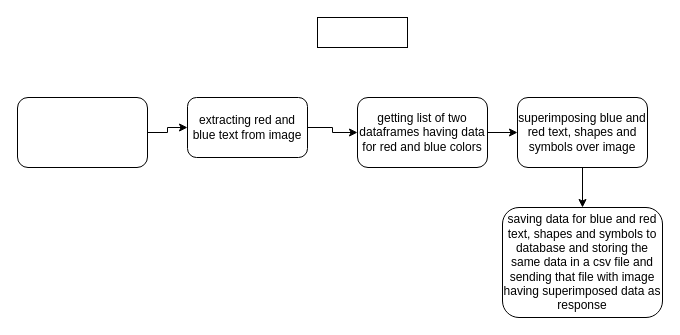
This 680x335 diagram has some shape labels left out. The centre of each missing label's shape, as x and y in pixels:
"accessing image from request body and saving to media directory" belongs at [82,132].
"Upload API" belongs at [362,32].
